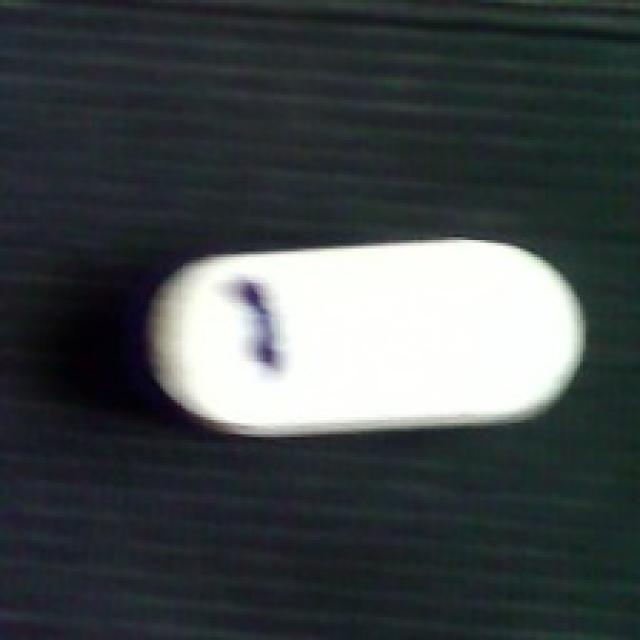defected: (135, 234, 594, 440)
